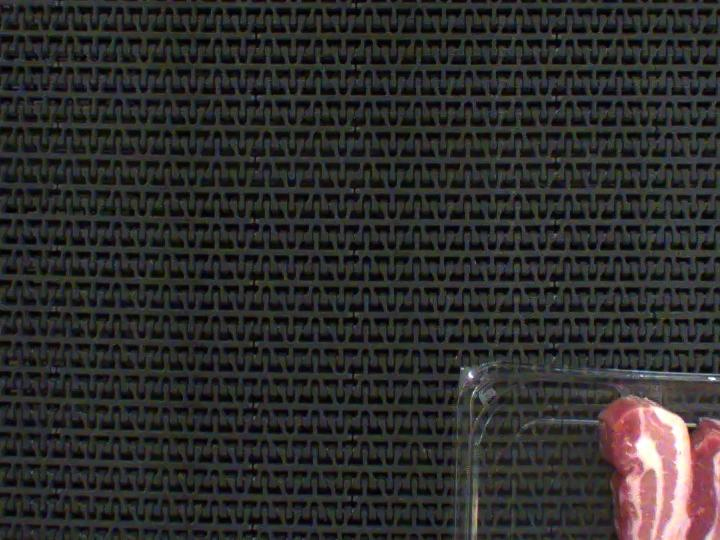packaging-error: (609, 374, 664, 409)
